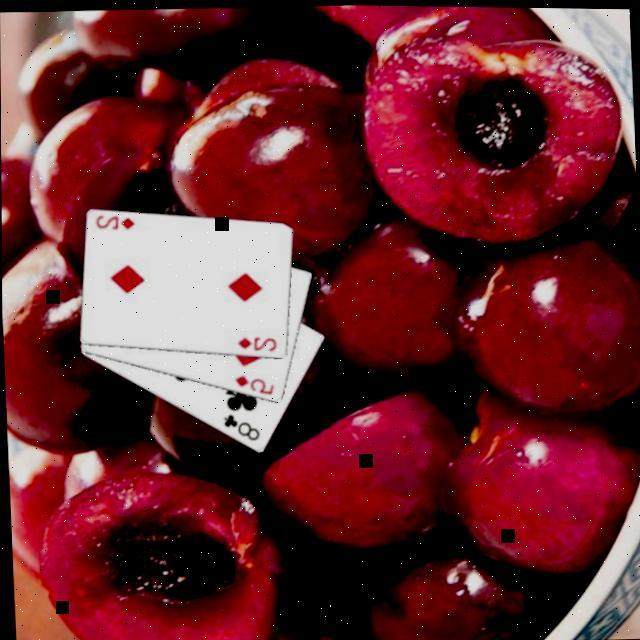2D: (232, 330, 278, 354), (90, 208, 136, 231)
5D: (229, 368, 275, 397)
8C: (218, 407, 260, 441)
